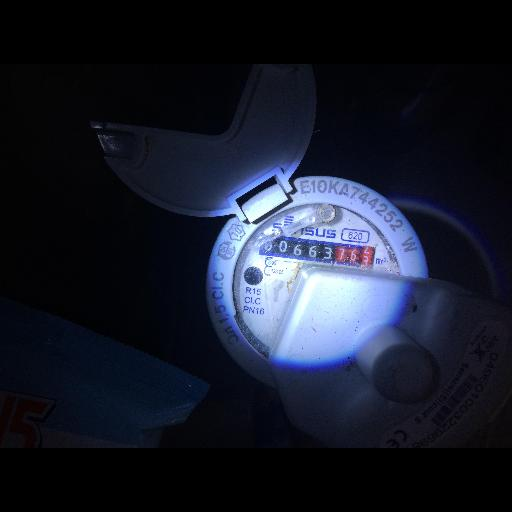0: (262, 236, 277, 254), (277, 239, 289, 256)
3: (360, 246, 373, 269), (322, 245, 334, 261)
6: (291, 241, 305, 258), (307, 243, 320, 260), (349, 248, 360, 265)
7: (336, 246, 349, 263)
border_water_meter_number: (258, 233, 376, 271)
